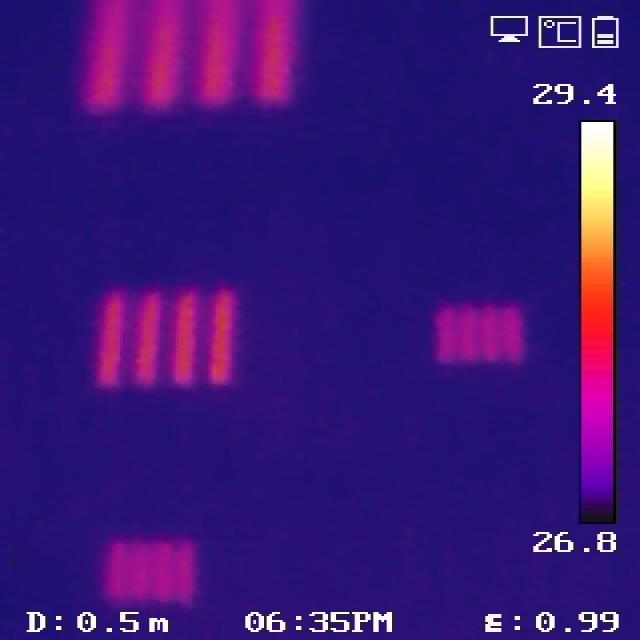Distinguishable 4-bar target: (73, 0, 303, 103), (97, 289, 236, 388)
threshold 4-bar target: (432, 304, 527, 370), (111, 539, 197, 602)
